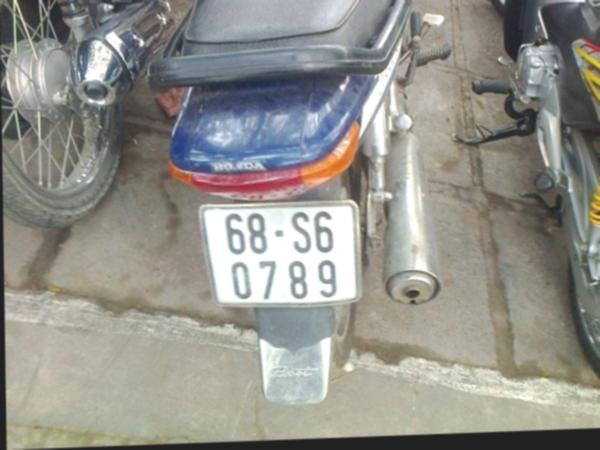License_Plate: (212, 203, 355, 304)
